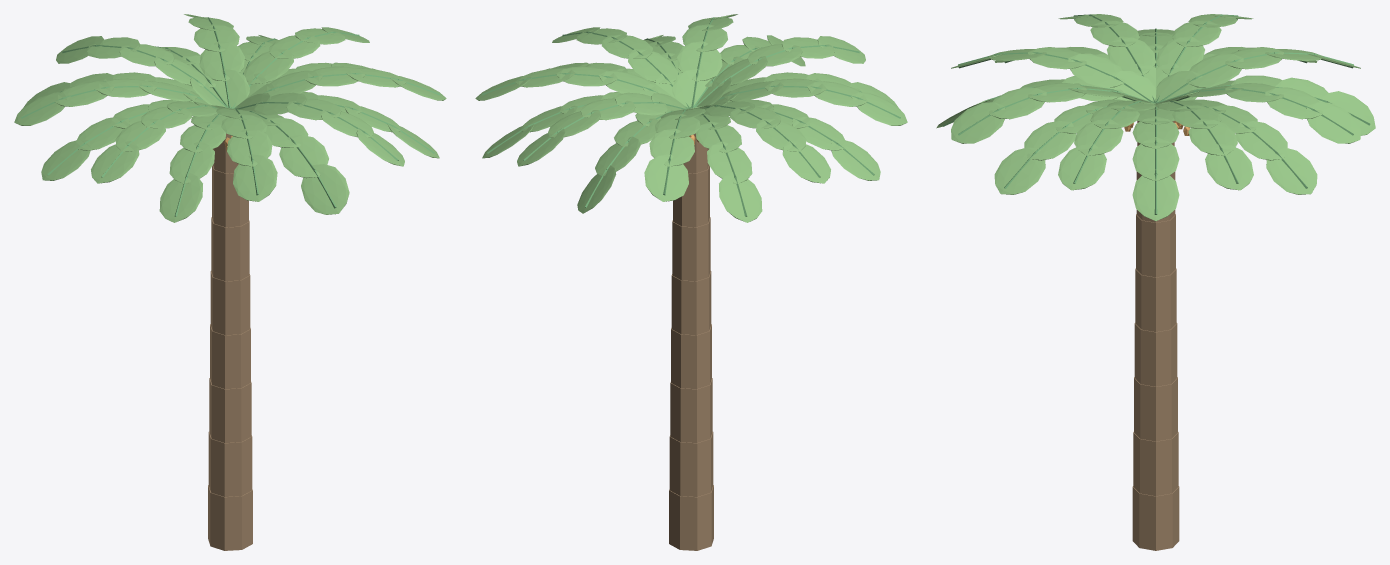
The model's file is palma_datilera.glb.
3 renders of one model, left to right at view 1: azimuth 30°, elevation 25°; view 2: azimuth 150°, elevation 25°; view 3: azimuth 270°, elevation 25°, orthographic.
Visible parts, largest first — view 1: verde, cafe, verde_osc; view 2: verde, cafe, verde_osc; view 3: verde, cafe, verde_osc.
Boxes of the visible parts, x1,y1,x2,y2 form: verde: [14, 14, 446, 222]; cafe: [208, 133, 252, 550]; verde_osc: [21, 17, 439, 216]; verde: [475, 14, 907, 222]; cafe: [669, 133, 713, 550]; verde_osc: [482, 17, 900, 216]; verde: [936, 14, 1375, 220]; cafe: [1132, 121, 1179, 550]; verde_osc: [943, 14, 1370, 214].
Bounding box in the file's own units: 4.12 × 4.84 × 4.12.
